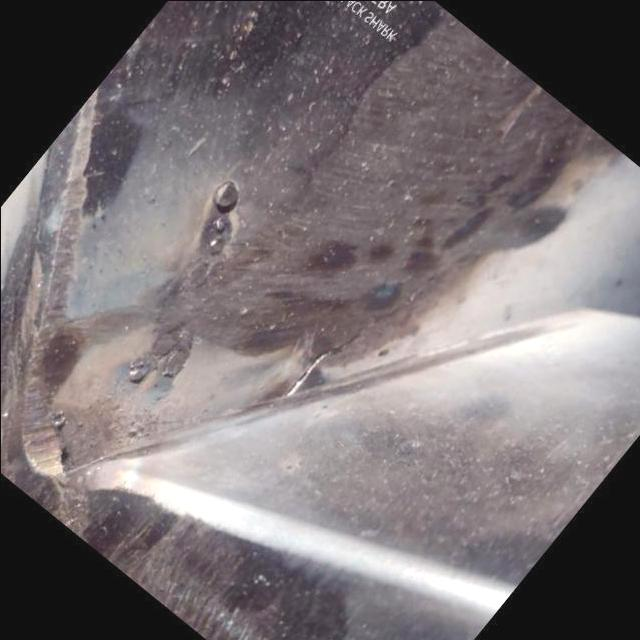defect: (275, 271, 438, 404)
